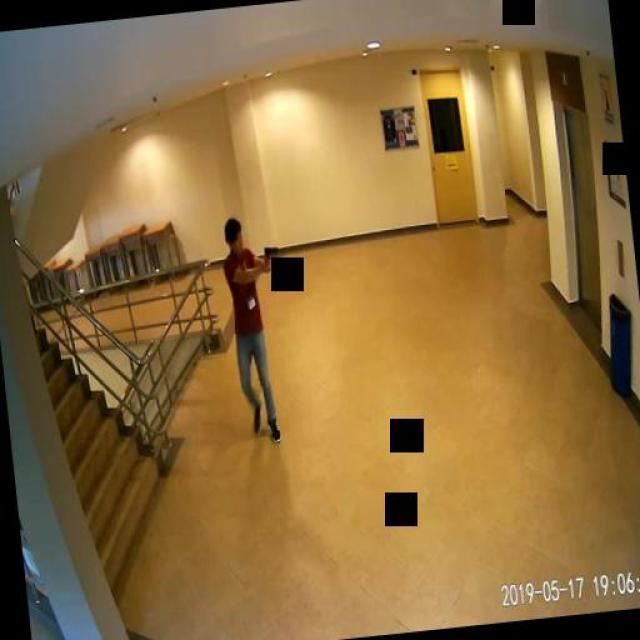gun: (262, 244, 278, 268)
